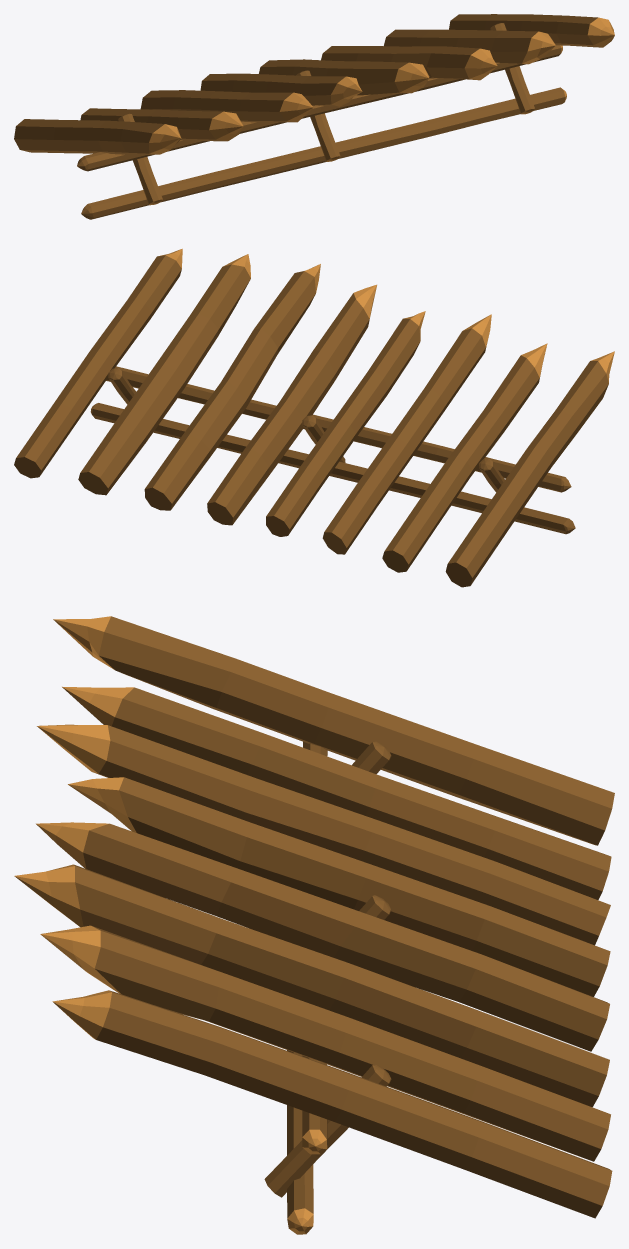
File: viking s.fbx
3 views of the same model, one above another, from view 1: azimuth 30°, elevation 25°; view 2: azimuth 150°, elevation 25°; view 3: azimuth 270°, elevation 25° (orthographic). The views are drawn at different scales.
Parts seen in each view (by area): view 1: Cylinder.002; view 2: Cylinder.002; view 3: Cylinder.002.
Part boxes in pixels (box(x1,y1,x2,y2)): Cylinder.002: box(14, 14, 614, 219); Cylinder.002: box(14, 248, 614, 587); Cylinder.002: box(14, 616, 614, 1234).
Bounding box in the file's own units: 206 × 55.94 × 124.
